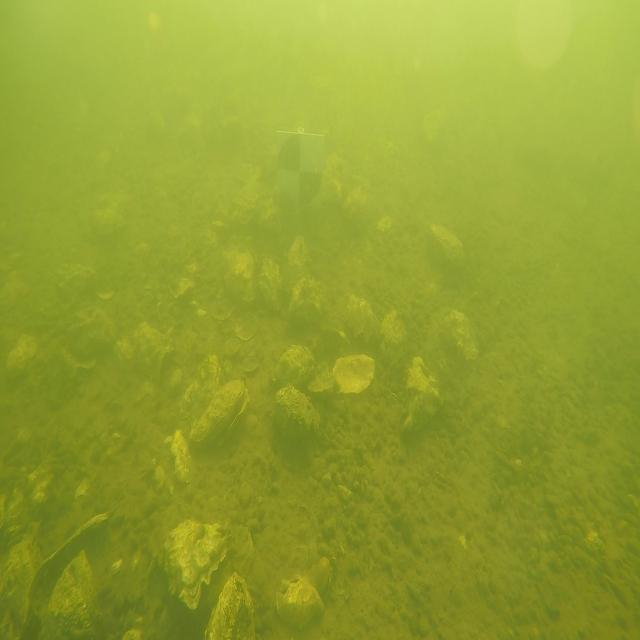Oyster-Closed: (57, 297, 120, 366), (0, 517, 36, 635), (202, 572, 261, 640), (276, 386, 337, 451), (403, 354, 446, 437), (123, 321, 174, 388), (272, 576, 329, 633), (258, 247, 302, 319), (179, 354, 224, 418), (274, 345, 331, 394), (423, 220, 470, 278), (339, 298, 383, 359), (288, 267, 329, 329), (440, 309, 482, 369), (6, 337, 50, 383), (343, 187, 379, 232), (291, 236, 314, 286), (231, 253, 259, 294)
Oyster-Open: (27, 516, 128, 640), (153, 510, 247, 619), (187, 378, 255, 465), (315, 353, 379, 397), (235, 315, 258, 335)
